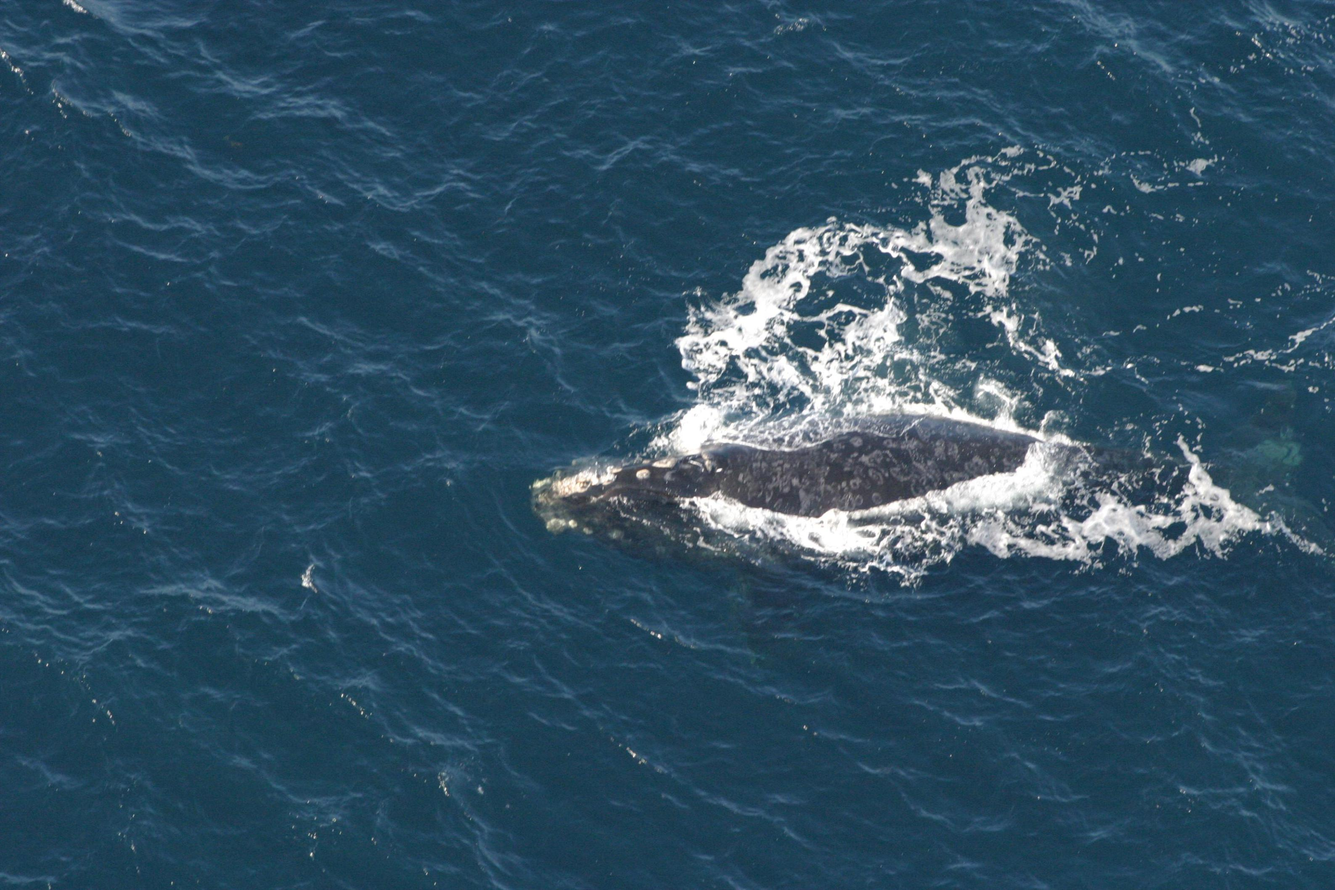whale: (522, 376, 1335, 689)
